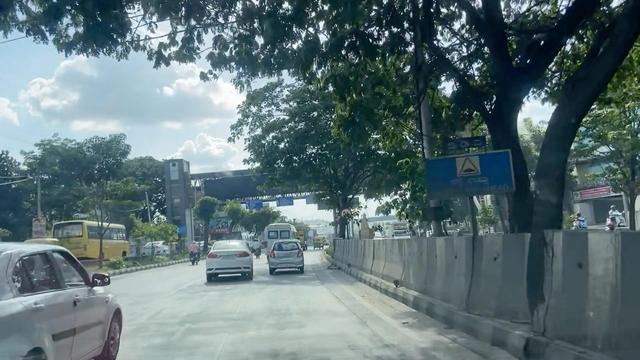LMV: (208, 242, 252, 278), (271, 243, 310, 275)
